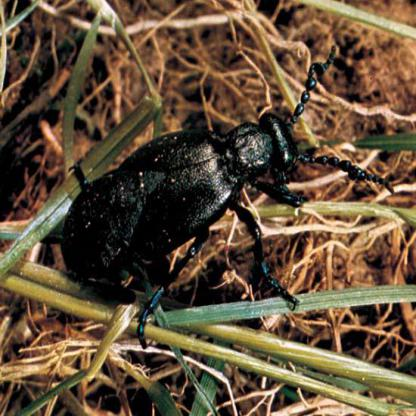blister beetle: (60, 64, 380, 307)
